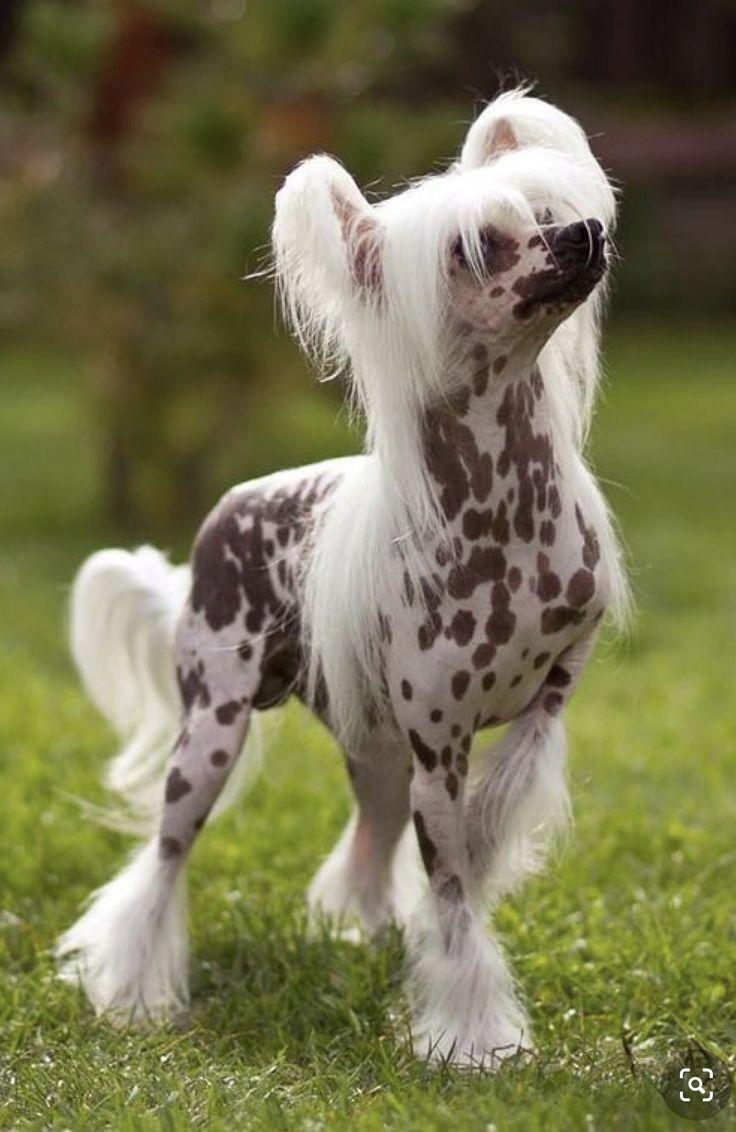dog: (59, 92, 626, 1065)
